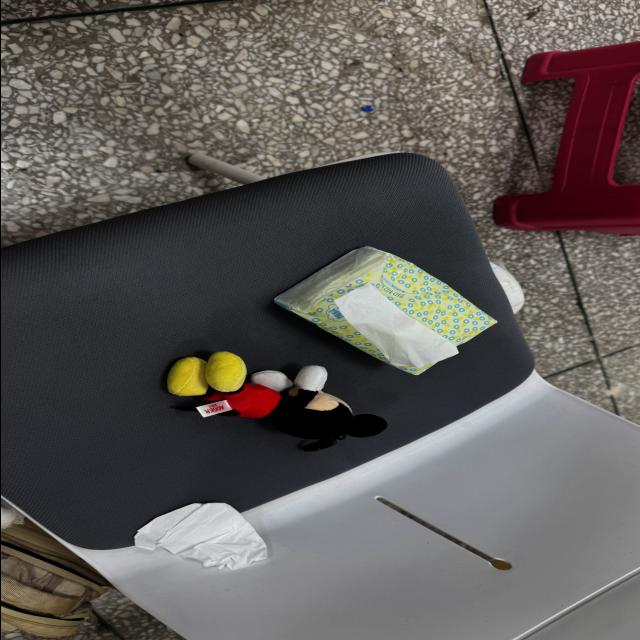mickey: (167, 352, 386, 450)
tissue: (274, 247, 495, 374), (336, 283, 457, 368), (134, 503, 265, 569), (274, 247, 384, 313), (134, 504, 200, 550), (1, 500, 23, 529)
